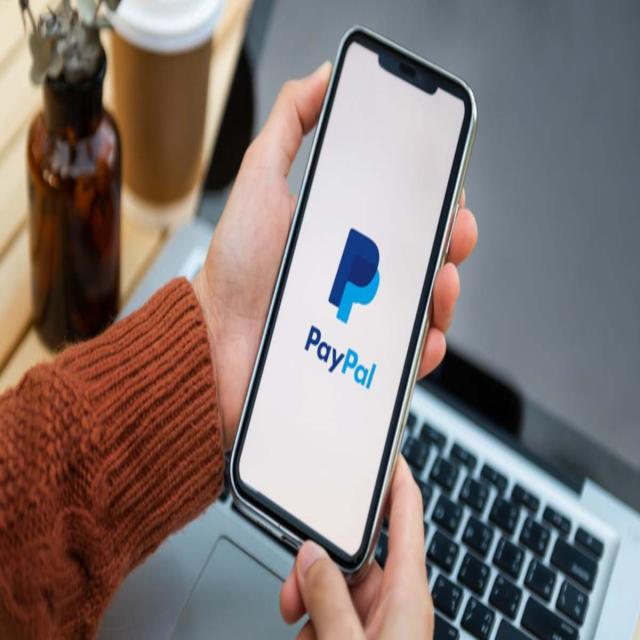paypal: (328, 228, 380, 322)
paypal_txt: (304, 323, 376, 393)
